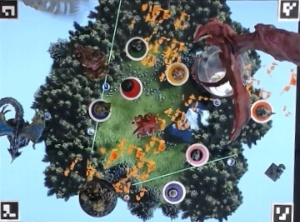blue: (88, 97, 113, 121)
green: (124, 34, 151, 61)
orange: (252, 100, 276, 123)
pink: (184, 139, 211, 167)
red: (117, 74, 146, 101)
violet: (160, 178, 187, 206)
yellow: (165, 58, 192, 86)
